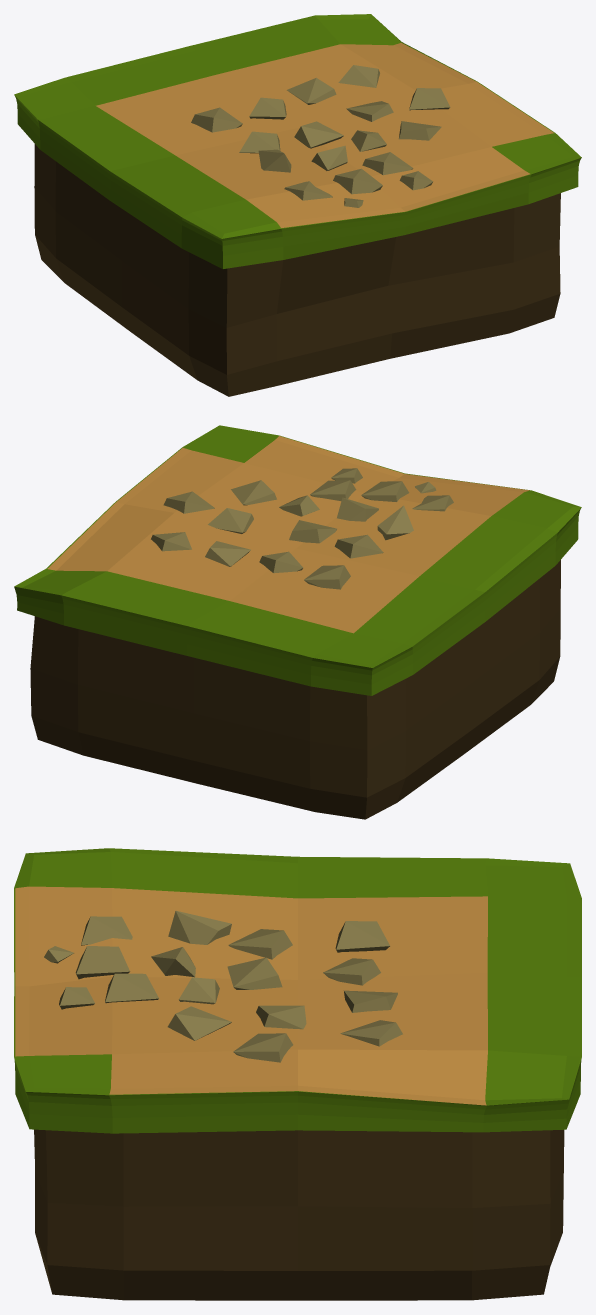
File: RoadTile_Turn.fbx
The picture shows the model from 3 angles, top to bottom: view 1: azimuth 30°, elevation 25°; view 2: azimuth 150°, elevation 25°; view 3: azimuth 270°, elevation 25°; orthographic projection. The views are drawn at different scales.
Visible parts, largest first — view 1: DefaultGreenTile.004, RoadRocks; view 2: DefaultGreenTile.004, RoadRocks; view 3: DefaultGreenTile.004, RoadRocks.
Boxes of the visible parts, <box> form: DefaultGreenTile.004: <box>14,14,581,396</box>; RoadRocks: <box>191,65,450,207</box>; DefaultGreenTile.004: <box>14,425,581,819</box>; RoadRocks: <box>151,468,453,589</box>; DefaultGreenTile.004: <box>14,848,581,1300</box>; RoadRocks: <box>44,910,402,1062</box>.
Bounding box in the file's own units: 19.42 × 19.55 × 9.6.
